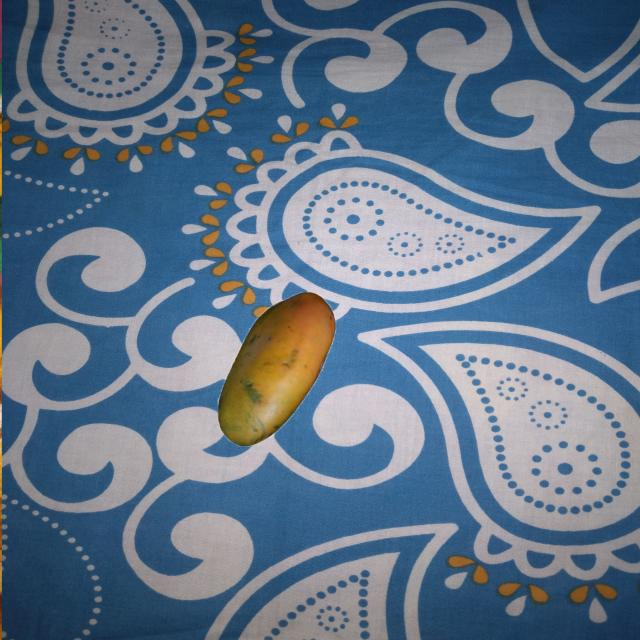Pepaya rippen: (209, 286, 335, 451)
